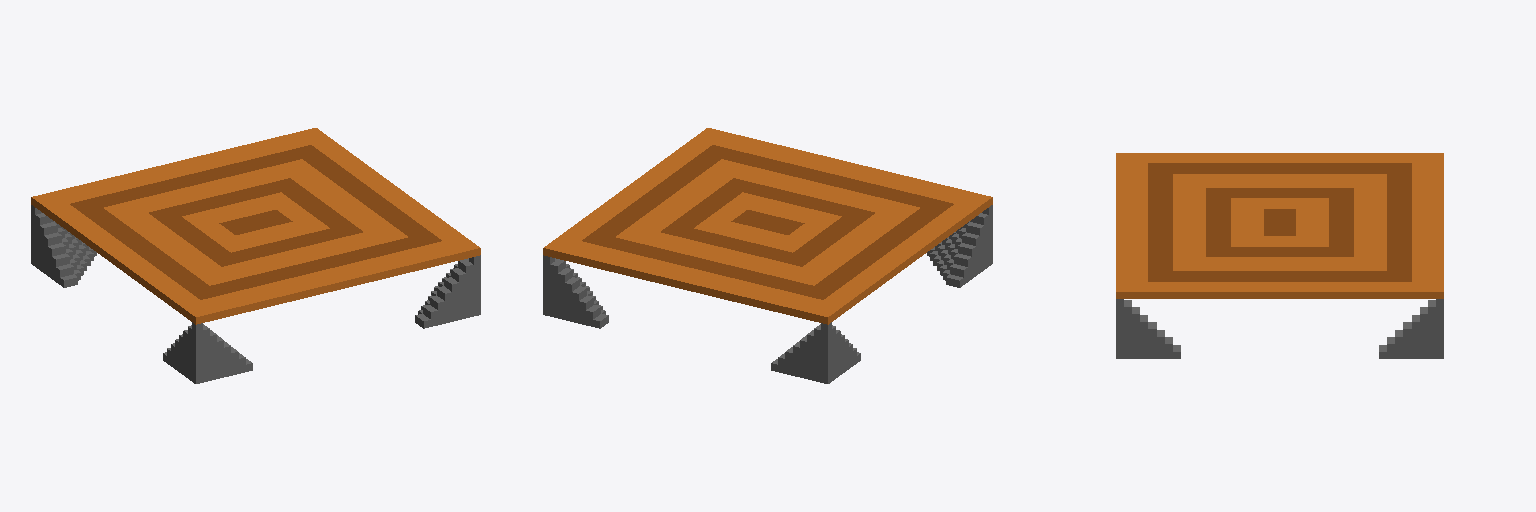
The picture shows the model from 3 angles: view 1: azimuth 30°, elevation 25°; view 2: azimuth 150°, elevation 25°; view 3: azimuth 270°, elevation 25°; orthographic projection.
Visible parts, largest first — view 1: object 1; view 2: object 1; view 3: object 1.
Part boxes in pixels (left/top/right/bottom): object 1: left=31, top=128, right=480, bottom=383; object 1: left=543, top=128, right=992, bottom=383; object 1: left=1116, top=153, right=1443, bottom=358.
Bounding box in the file's own units: 4 × 0.9 × 4.
1 materials, 1 textured.